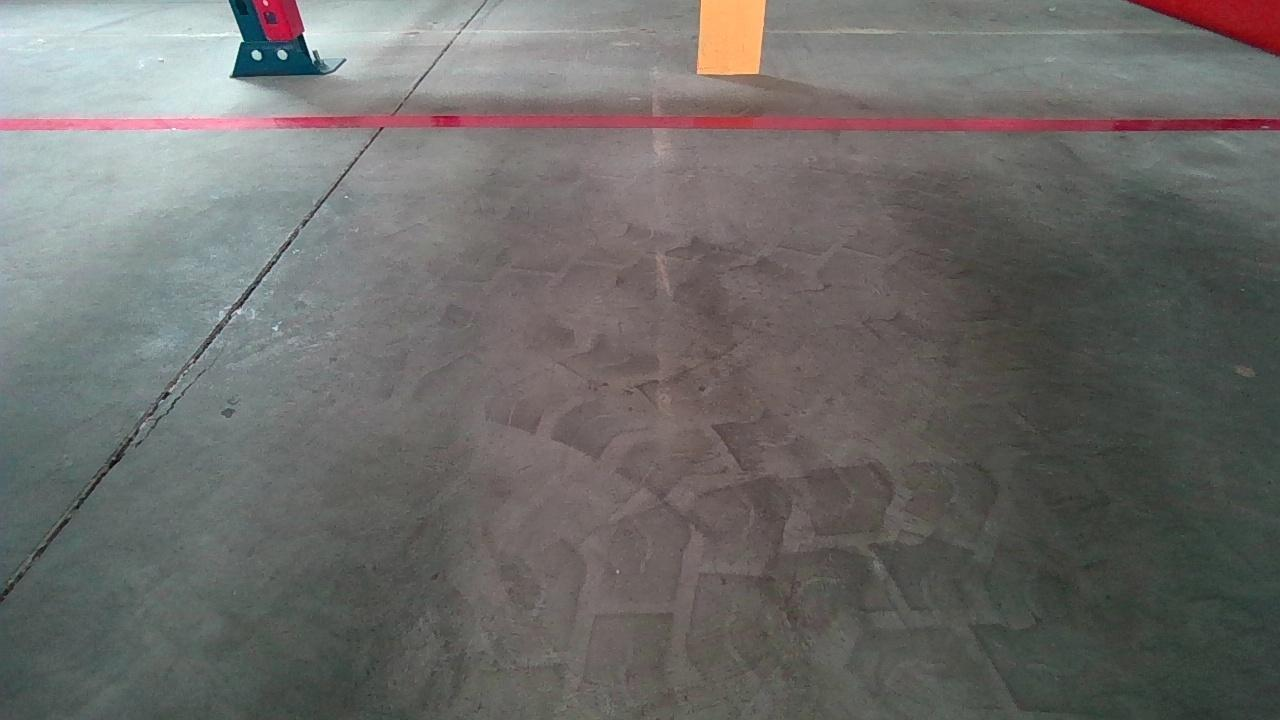red_line: (0, 117, 1280, 130)
